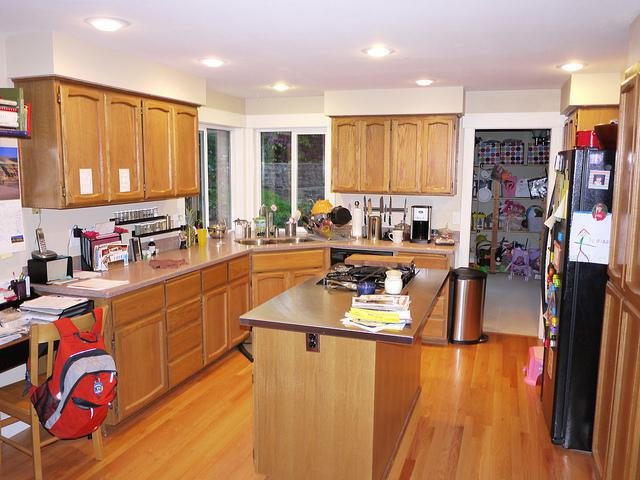Bote de Basura: (450, 264, 492, 346)
Lavaplatos: (231, 202, 316, 252)
